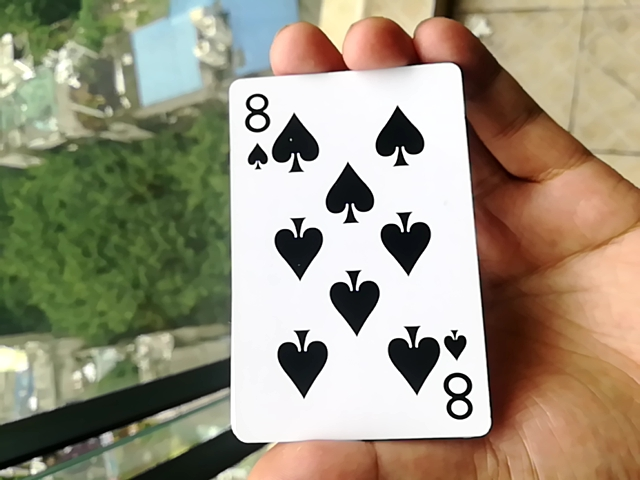ht 8: (225, 54, 478, 450)
